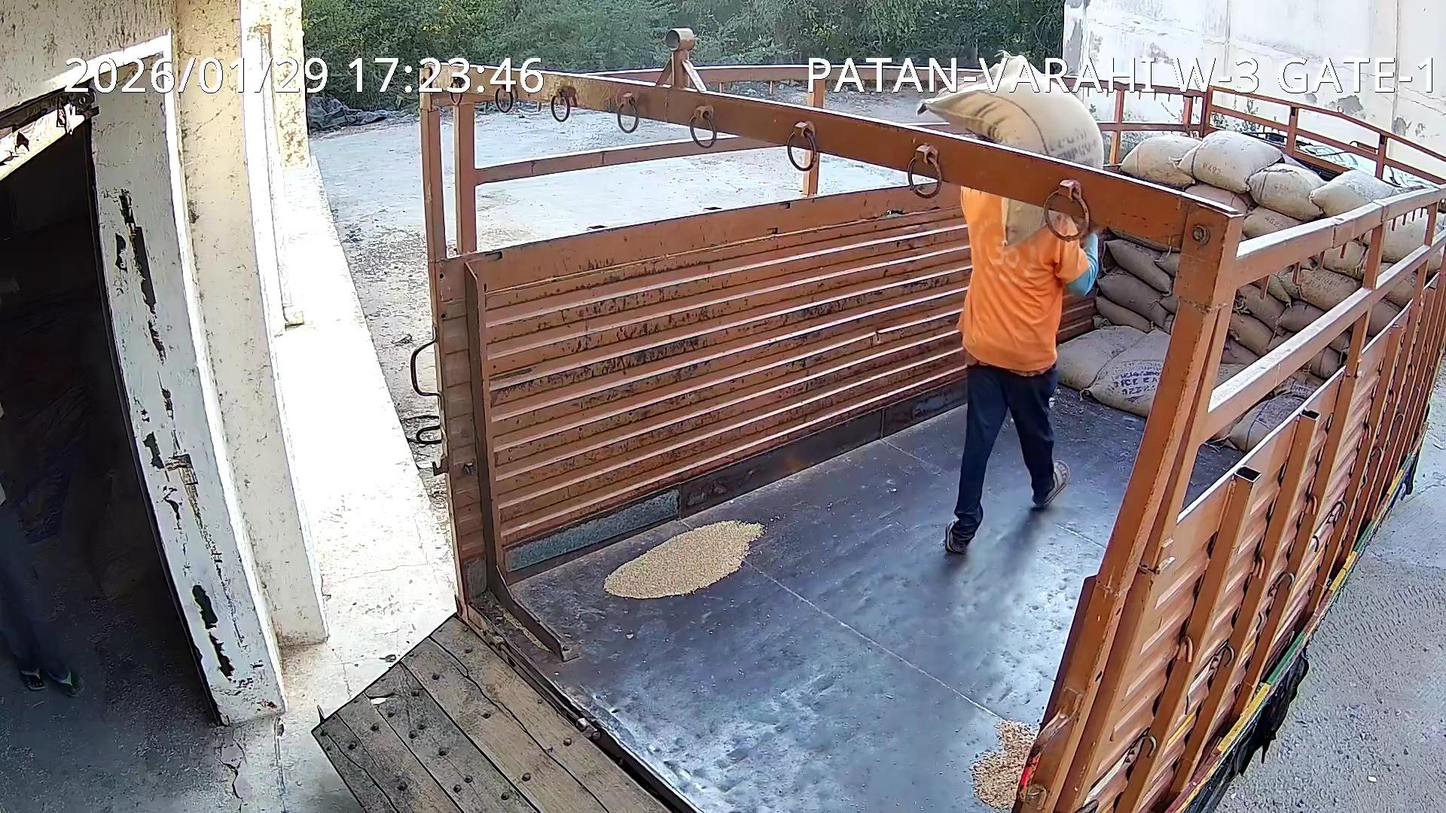Sack: (918, 53, 1103, 169), (999, 197, 1045, 244)
